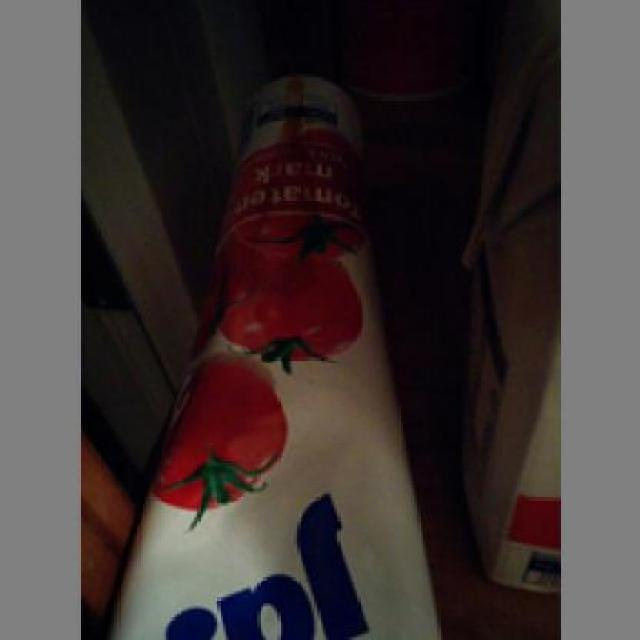Tomato Sauce: (106, 114, 440, 637)
